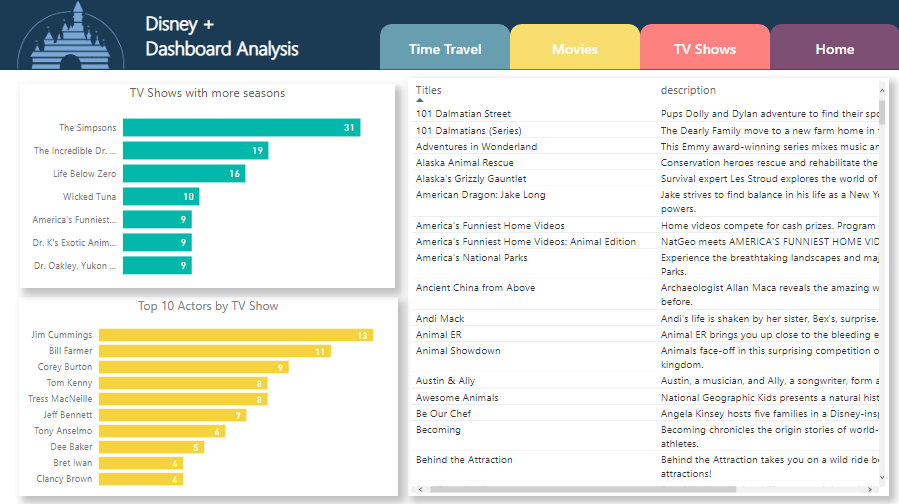

The page's visual inventory and layout, read from the dashboard file:
{"tool":"powerbi","page":{"name":"TV Shows","canvas":[1280,720],"ordinal":3},"visuals":[{"type":"shape","box":[0,102.2,1279.5,617.8],"z":0},{"type":"actionButton","box":[541.1,36.9,184.6,65.3],"z":1000},{"type":"actionButton","box":[725.7,36.9,184.6,65.3],"z":2000},{"type":"actionButton","box":[910.3,36.9,184.6,65.3],"z":3000},{"type":"actionButton","box":[1094.9,36.9,184.6,65.3],"z":4000},{"type":"barChart","title":"TV Shows with more seasons","fields":{"Category":["tv shows.title"],"Y":["Sum(tv shows.duration)"]},"box":[30.2,122.6,532.5,288.9],"z":5000},{"type":"barChart","title":"Top 10 Actors by TV Show","fields":{"Category":["actors.Actor"],"Y":["CountNonNull(actors.show_id)"]},"box":[28.6,425,537.5,282.2],"z":6000},{"type":"textbox","box":[203.1,11.4,259.9,89.5],"z":7000,"group":"g1"},{"type":"tableEx","fields":{"Values":["disney_plus_titles.title","disney_plus_titles.description"]},"box":[580.8,113.6,683.1,593.6],"z":8000},{"type":"group","id":"g1","title":"Grupo 1","box":[18.5,0,444.5,113.6],"z":8001},{"type":"image","box":[18.5,0,167.6,113.6],"z":13000,"group":"g1"}]}

Visuals, with their boxes in screenshot pixels (x1, y1, x2, y2), scaled from the page's 1280x720 canvas onto the 899x504 screenshot:
shape: bbox=(0, 72, 898, 503)
actionButton: bbox=(380, 26, 510, 72)
actionButton: bbox=(510, 26, 639, 72)
actionButton: bbox=(639, 26, 769, 72)
actionButton: bbox=(769, 26, 898, 72)
"TV Shows with more seasons" barChart: bbox=(21, 86, 395, 288)
"Top 10 Actors by TV Show" barChart: bbox=(20, 298, 398, 495)
textbox: bbox=(143, 8, 325, 71)
tableEx - disney_plus_titles.title x disney_plus_titles.description: bbox=(408, 80, 888, 495)
"Grupo 1" group: bbox=(13, 0, 325, 80)
image: bbox=(13, 0, 131, 80)
